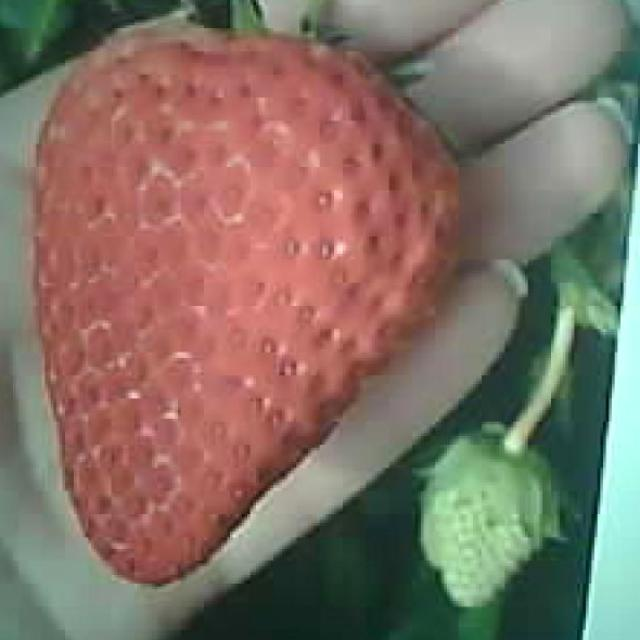Healthy Fruit: (31, 24, 462, 585)
